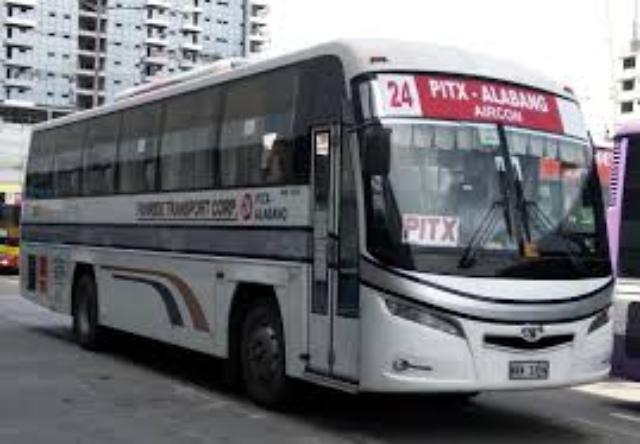bus: (24, 38, 609, 406)
